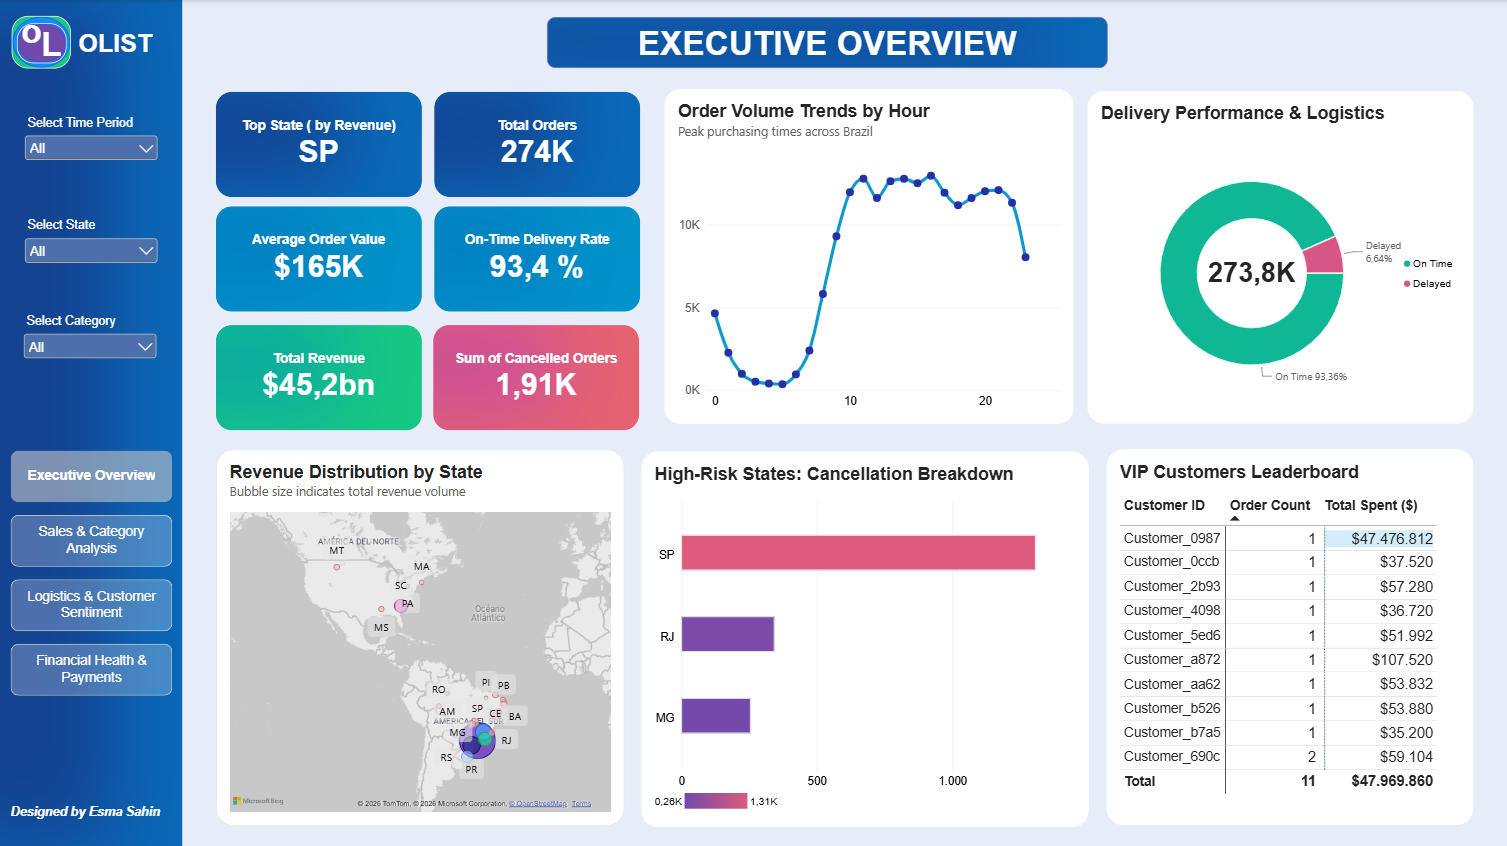

The page's visual inventory and layout, read from the dashboard file:
{"tool":"powerbi","page":{"name":"Executive Overview","canvas":[1920,1080],"ordinal":0},"visuals":[{"type":"shape","box":[0,0,232.2,1080.1],"z":0},{"type":"shape","box":[15.2,20.8,75.8,67],"z":0,"group":"g1"},{"type":"slicer","fields":{"Values":["06_fact_order_items.order_purchase_date.Variation.Jerarquía de fechas.Año","06_fact_order_items.order_purchase_date.Variation.Jerarquía de fechas.Mes"]},"box":[28.2,146.9,178.8,74.2],"z":0,"group":"g2"},{"type":"shape","box":[22,29.7,63.5,50.8],"z":1000,"group":"g1"},{"type":"slicer","fields":{"Values":["08_dim_customers.customer_state"]},"box":[28.2,278.1,178.8,69.7],"z":1000,"group":"g2"},{"type":"map","title":"Revenue Distribution by State","fields":{"Category":["02_state_revenue_results.STATE"],"Size":["Sum(02_state_revenue_results.TOTAL REVENUE)"]},"box":[275.4,572.5,519.8,479.3],"z":1000},{"type":"textbox","box":[27.5,16.3,72.5,81.9],"z":2000,"group":"g1"},{"type":"lineChart","title":"Order Volume Trends by Hour","fields":{"Category":["03_golden_hours_results.order_hour"],"Y":["Sum(03_golden_hours_results.total_orders)"]},"box":[846.5,113.4,521.2,426.6],"z":2000},{"type":"slicer","fields":{"Values":["07_dim_products.product_category_name_english"]},"box":[26.6,400,178.8,81.8],"z":2000,"group":"g2"},{"type":"textbox","box":[52.9,32.5,39.5,52.3],"z":3000,"group":"g1"},{"type":"textbox","box":[100,36.7,96.2,39.2],"z":3000,"group":"g2"},{"type":"donutChart","title":"Delivery Performance & Logistics","fields":{"Category":["01_delivery_results.Delivery Status"],"Y":["Sum(01_delivery_results.Number of Orders)"]},"box":[1385.3,116.1,491.5,423.9],"z":3000},{"type":"group","id":"g1","title":"Group 1","box":[15.2,16.3,84.9,82.6],"z":4000,"group":"g2"},{"type":"pivotTable","title":"VIP Customers Leaderboard","fields":{"Rows":["04_vip_customers_results.VIP_Name"],"Values":["Sum(04_vip_customers_results.total_orders)","Sum(04_vip_customers_results.total_spent)","select"]},"box":[1409.8,572.4,466.8,478.5],"z":4000},{"type":"cardVisual","fields":{"Data":["Sum(05_canceled_orders_results.canceled_orders)"]},"box":[551.2,412.8,264,136],"z":5000},{"type":"pageNavigator","box":[14.3,573.9,206.1,313.6],"z":5000,"group":"g2"},{"type":"clusteredBarChart","title":"High-Risk States: Cancellation Breakdown","fields":{"Category":["05_canceled_orders_results.state"],"Y":["Sum(05_canceled_orders_results.Cancelled Orders)"]},"box":[816.3,574.7,570,478.5],"z":6000},{"type":"textbox","box":[14.1,1025,192.2,28.1],"z":6000,"group":"g2"},{"type":"cardVisual","fields":{"Data":["Max(02_state_revenue_results.STATE)"]},"box":[274.2,116,264,136],"z":7000},{"type":"textbox","box":[696.7,21.6,714.2,64.8],"z":8000},{"type":"cardVisual","fields":{"Data":["Sum(01_delivery_results.Number of Orders)"]},"box":[552.2,116,264,136],"z":9000},{"type":"cardVisual","fields":{"Data":["Sum(02_state_revenue_results.TOTAL REVENUE)"]},"box":[274.4,412.8,264,136],"z":10000},{"type":"cardVisual","fields":{"Data":["02_state_revenue_results.Average Order Value"]},"box":[274.2,262,264,136],"z":12000},{"type":"cardVisual","fields":{"Data":["01_delivery_results.On-Time Delivery Rate"]},"box":[552.2,262,264,136],"z":14000},{"type":"group","id":"g2","title":"Group 2","box":[14.1,16.3,206.3,1036.8],"z":18502}]}

Visuals, with their boxes in screenshot pixels (x1, y1, x2, y2), scaled from the page's 1920x1080 canvas onto the 1507x846 screenshot:
shape: [x1=0, y1=0, x2=182, y2=845]
shape: [x1=12, y1=16, x2=71, y2=69]
slicer - 06_fact_order_items.order_purchase_date.Variation.Jerarquía de fechas.Año x 06_fact_order_items.order_purchase_date.Variation.Jerarquía de fechas.Mes: [x1=22, y1=115, x2=162, y2=173]
shape: [x1=17, y1=23, x2=67, y2=63]
slicer - 08_dim_customers.customer_state: [x1=22, y1=218, x2=162, y2=272]
"Revenue Distribution by State" map: [x1=216, y1=448, x2=624, y2=824]
textbox: [x1=22, y1=13, x2=78, y2=77]
"Order Volume Trends by Hour" lineChart: [x1=664, y1=89, x2=1074, y2=423]
slicer - 07_dim_products.product_category_name_english: [x1=21, y1=313, x2=161, y2=377]
textbox: [x1=42, y1=25, x2=73, y2=66]
textbox: [x1=78, y1=29, x2=154, y2=59]
"Delivery Performance & Logistics" donutChart: [x1=1087, y1=91, x2=1473, y2=423]
"Group 1" group: [x1=12, y1=13, x2=79, y2=77]
"VIP Customers Leaderboard" pivotTable: [x1=1107, y1=448, x2=1473, y2=823]
cardVisual - Sum(05_canceled_orders_results.canceled_orders): [x1=433, y1=323, x2=640, y2=430]
pageNavigator: [x1=11, y1=450, x2=173, y2=695]
"High-Risk States: Cancellation Breakdown" clusteredBarChart: [x1=641, y1=450, x2=1088, y2=825]
textbox: [x1=11, y1=803, x2=162, y2=825]
cardVisual - Max(02_state_revenue_results.STATE): [x1=215, y1=91, x2=422, y2=197]
textbox: [x1=547, y1=17, x2=1107, y2=68]
cardVisual - Sum(01_delivery_results.Number of Orders): [x1=433, y1=91, x2=641, y2=197]
cardVisual - Sum(02_state_revenue_results.TOTAL REVENUE): [x1=215, y1=323, x2=423, y2=430]
cardVisual - 02_state_revenue_results.Average Order Value: [x1=215, y1=205, x2=422, y2=312]
cardVisual - 01_delivery_results.On-Time Delivery Rate: [x1=433, y1=205, x2=641, y2=312]
"Group 2" group: [x1=11, y1=13, x2=173, y2=825]
